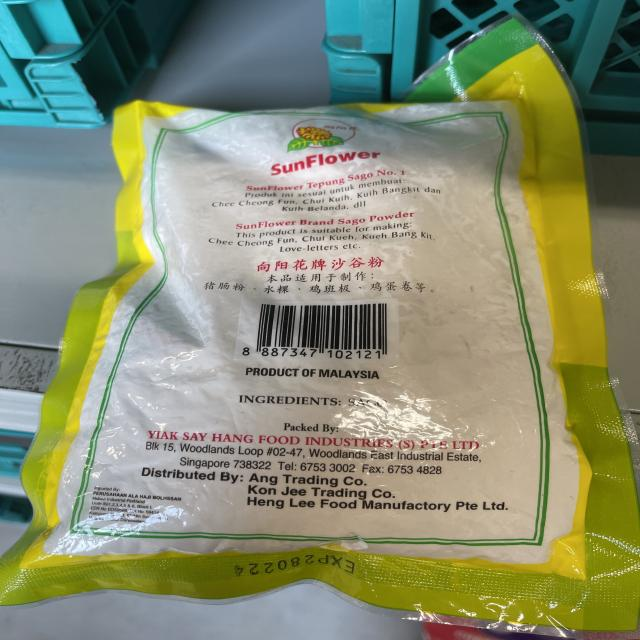object_name: (120, 102, 615, 605)
